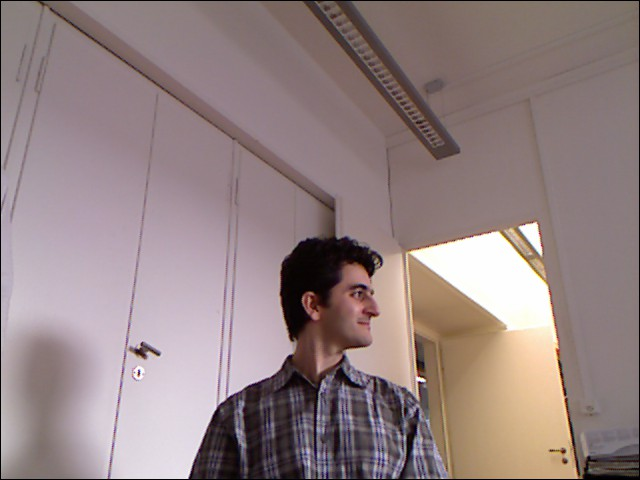deflection: (200, 244, 444, 454)
